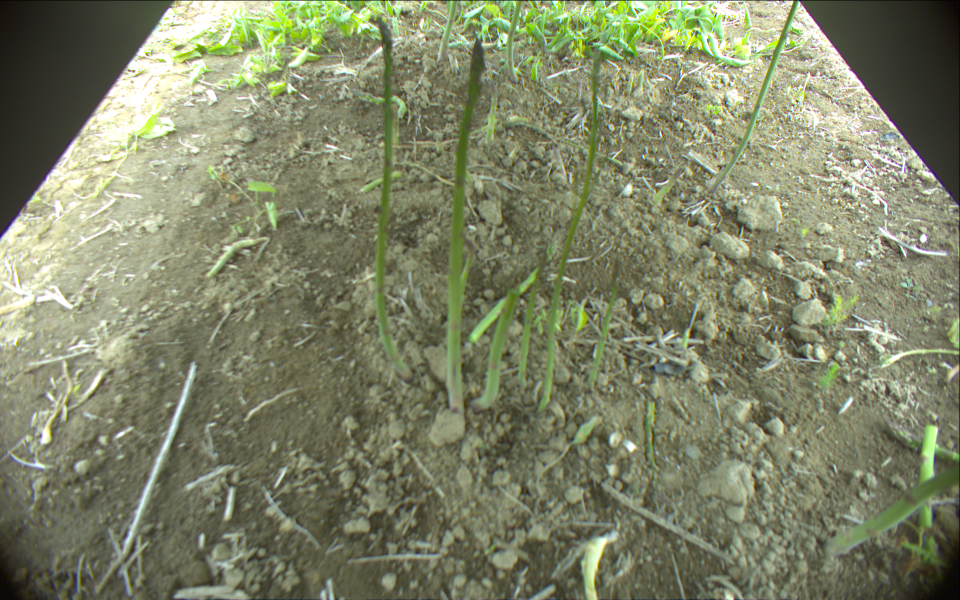aspa: (537, 50, 604, 410), (707, 1, 799, 193), (447, 39, 484, 409), (374, 19, 405, 371), (470, 265, 541, 343), (485, 287, 520, 412), (585, 285, 621, 397), (888, 422, 960, 465), (515, 263, 540, 384), (916, 423, 942, 534), (583, 535, 608, 600), (655, 163, 687, 202), (505, 1, 520, 84), (436, 1, 455, 63)
